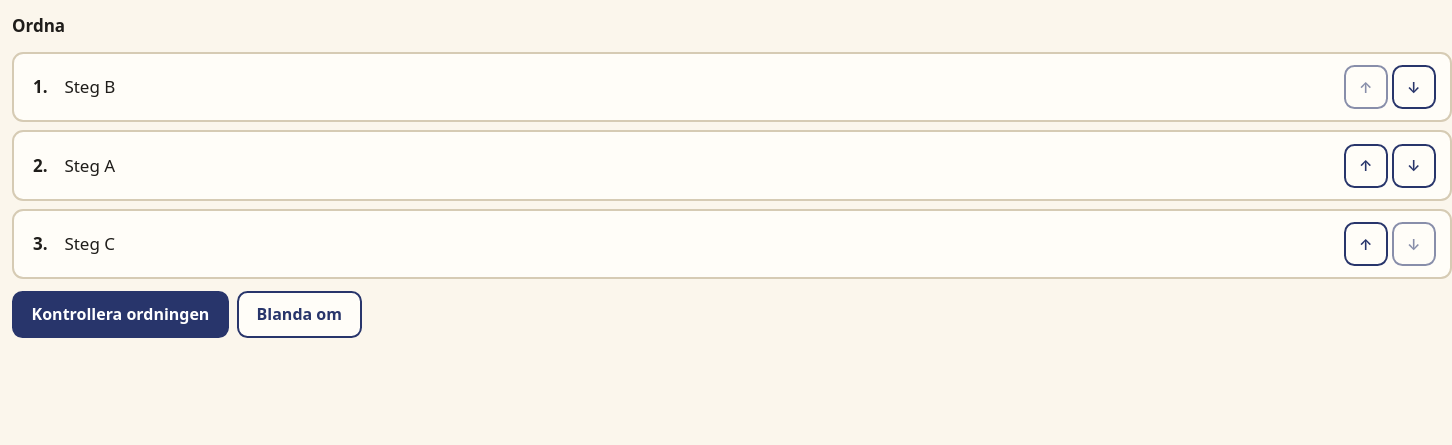
övningar › ordningsövning: knappar flyttar steg och kontroll ger återkoppling
Click the button "↑" in the row of "Steg A": (1366, 166) [1344,144,1388,188]
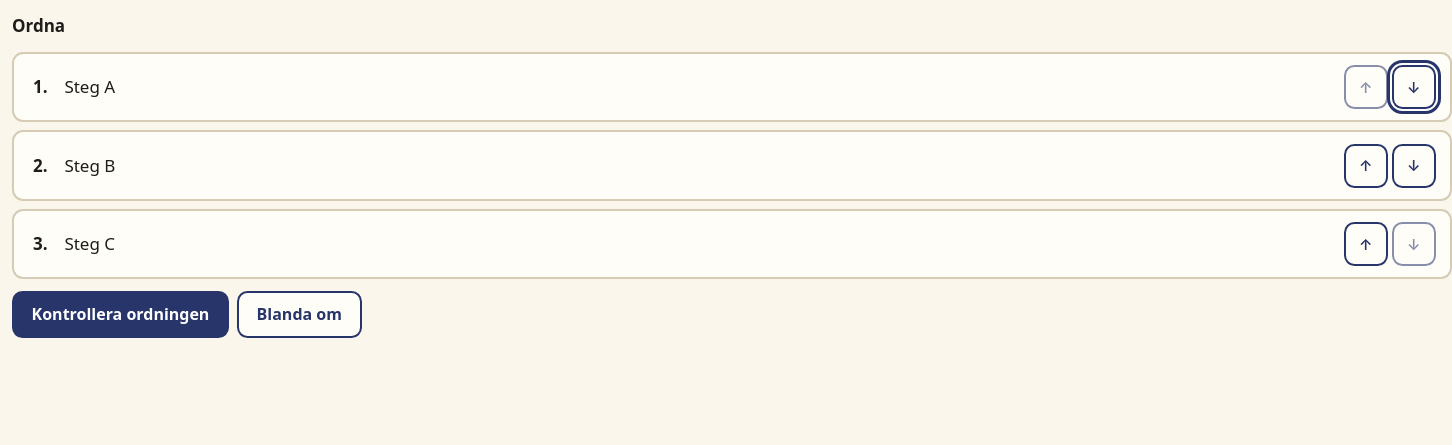
Click the button "Kontrollera ordningen": (120, 314) [12,291,229,338]
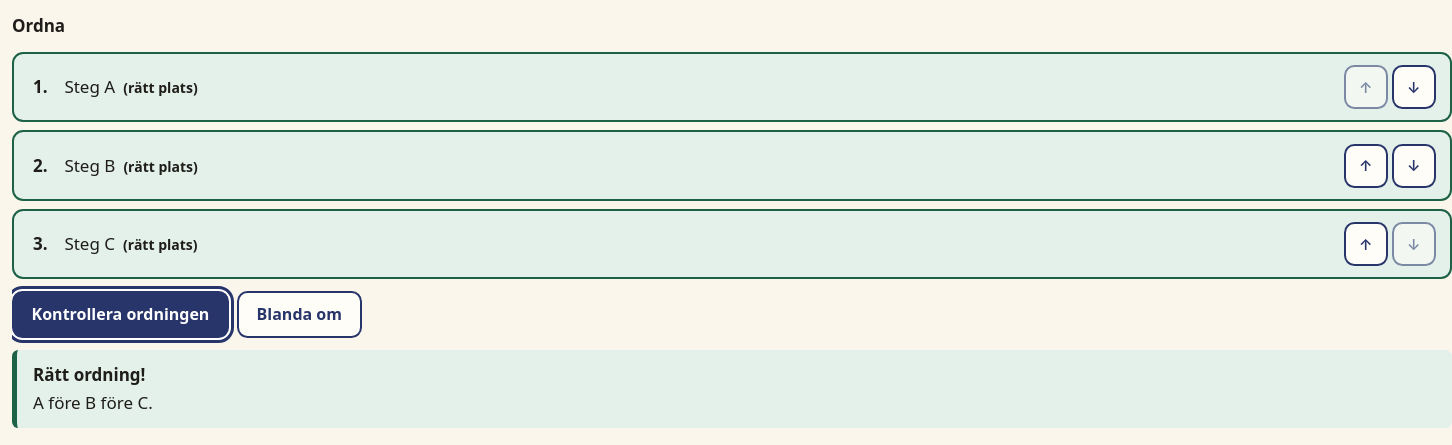
Result: the message shows "Rätt ordning" at [33,363,146,386]
